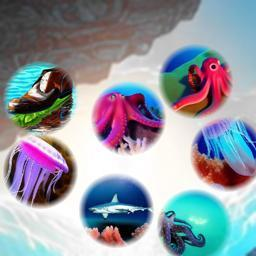not an animal: (8, 66, 72, 123)
